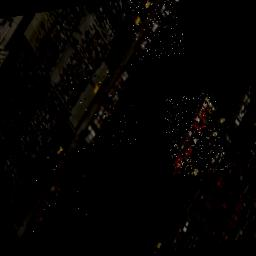boat: (79, 65, 135, 153), (28, 149, 83, 238), (173, 93, 217, 177), (136, 0, 179, 62)
